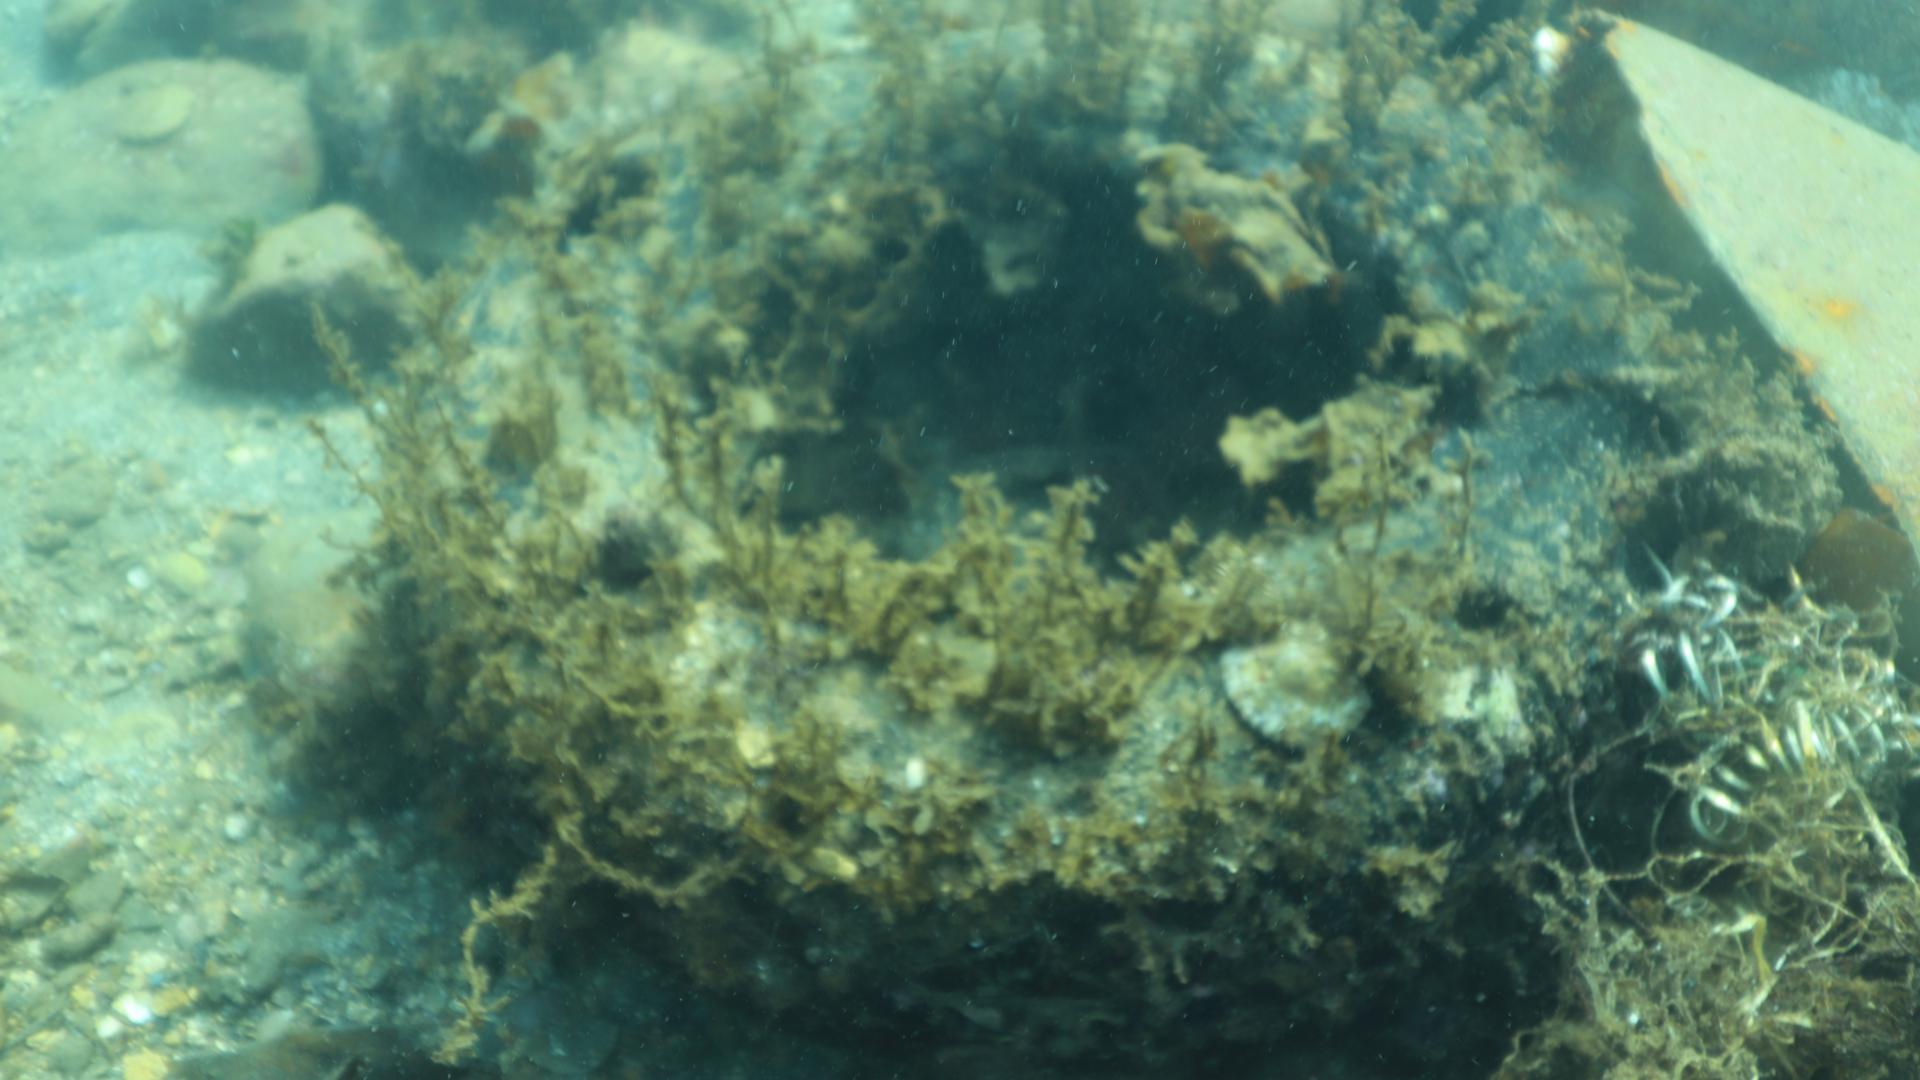tire: (377, 9, 1662, 1080)
